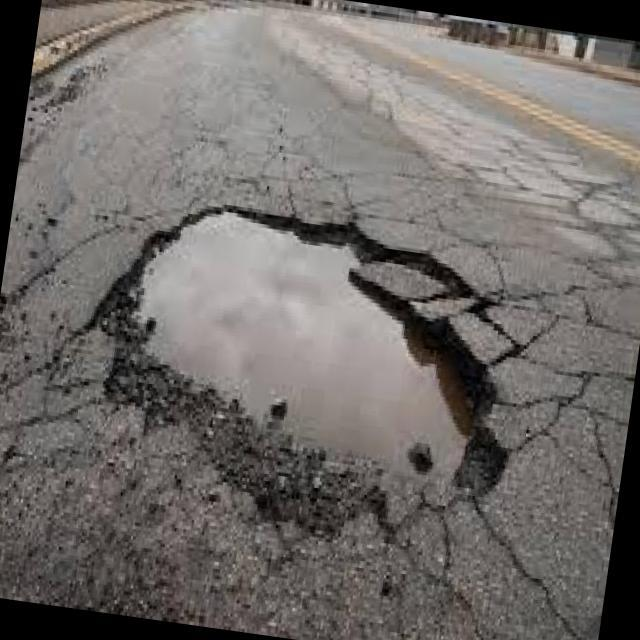Pothole: (95, 210, 511, 509)
